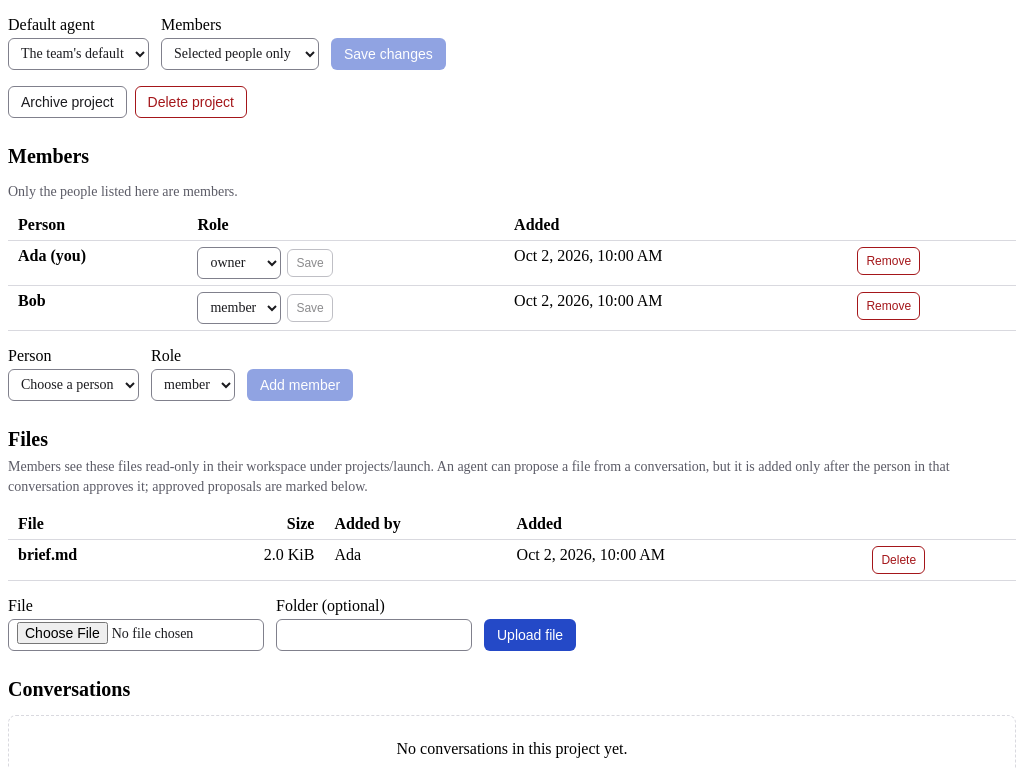
Test case: project members (KOBE-164, ac-1) › adds a person who is not yet a member, with a role
(page scrolled)
Select "Cy (cy@x.io)" in the dropdown labelled "Person" at {"x": 74, "y": 384}, box left=8, top=368, right=139, bottom=400
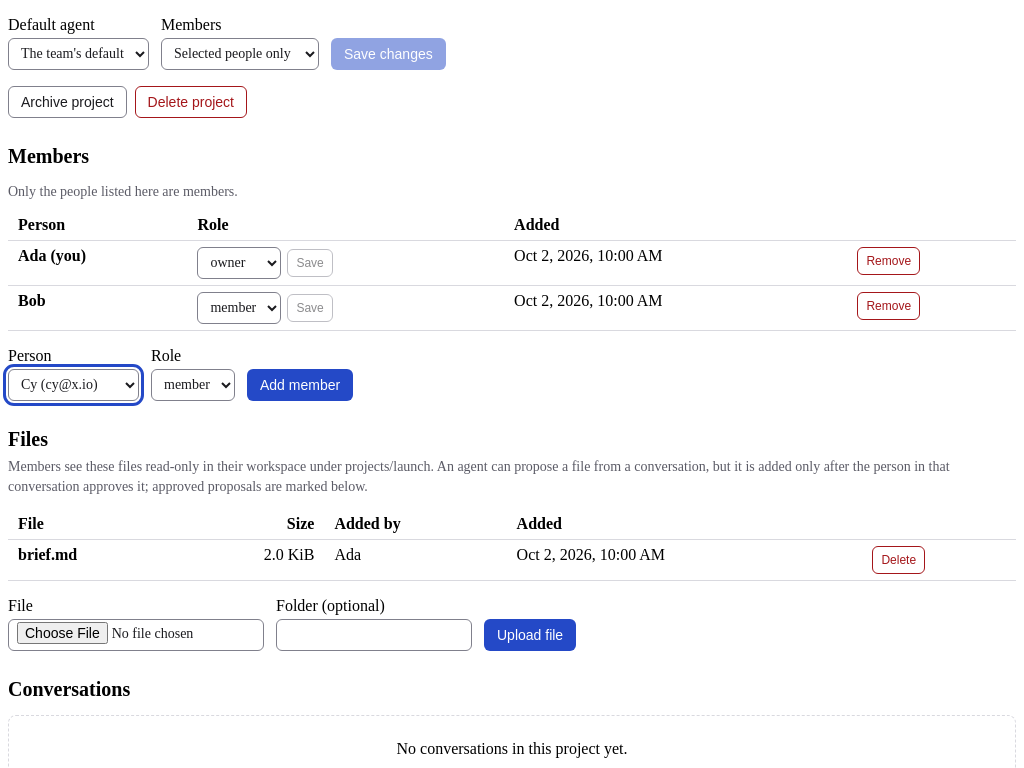
Select "owner" in the dropdown labelled "Role" at {"x": 193, "y": 384}, box left=151, top=368, right=235, bottom=400
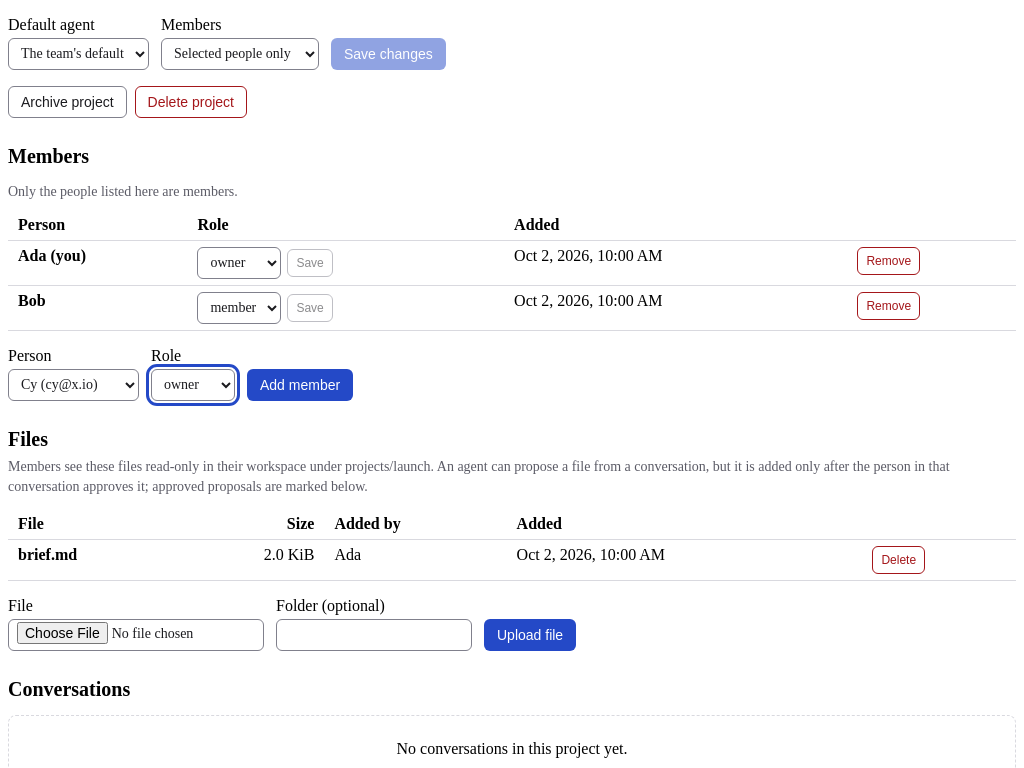
Click the button "Add member" at {"x": 300, "y": 384}, box left=247, top=368, right=353, bottom=400
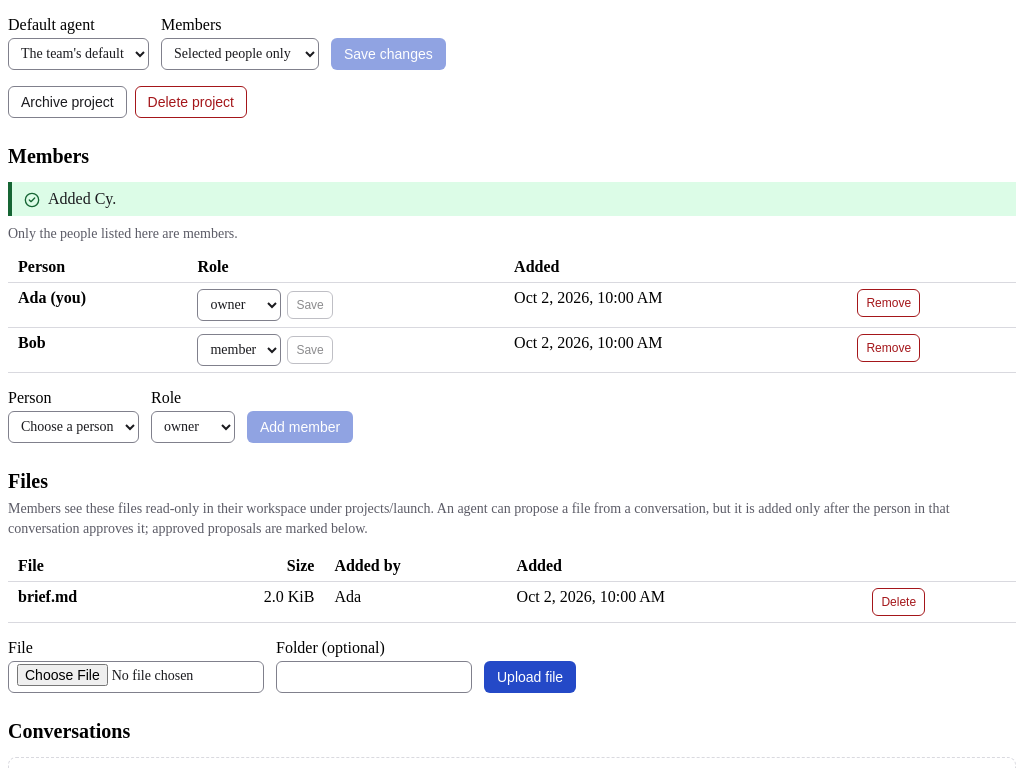
expect the text "Added Cy." is shown: met, box left=48, top=190, right=116, bottom=206
